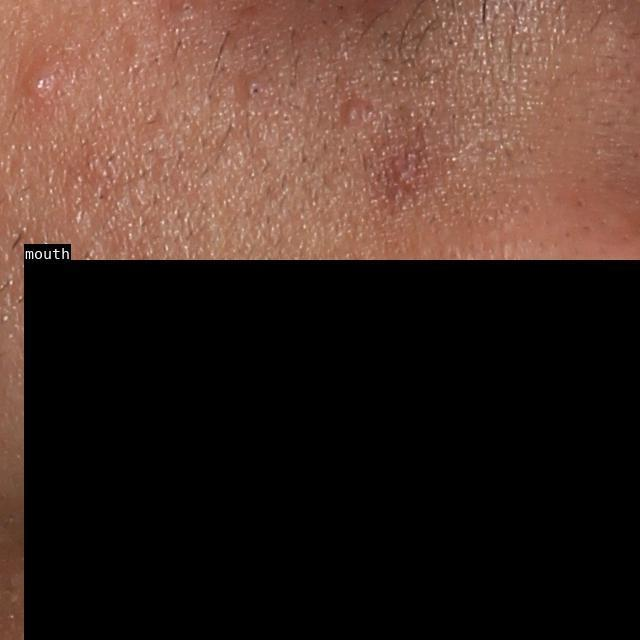comedo: (244, 78, 264, 101)
papule: (343, 95, 364, 129)
